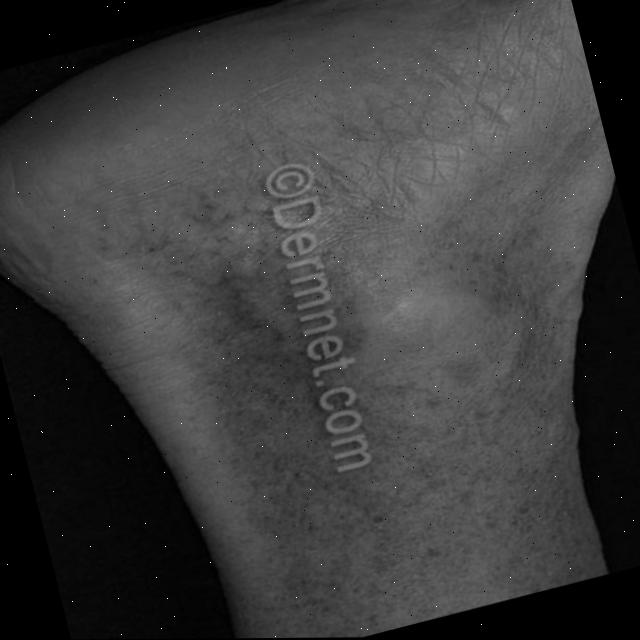Eczema: (147, 87, 602, 639)
